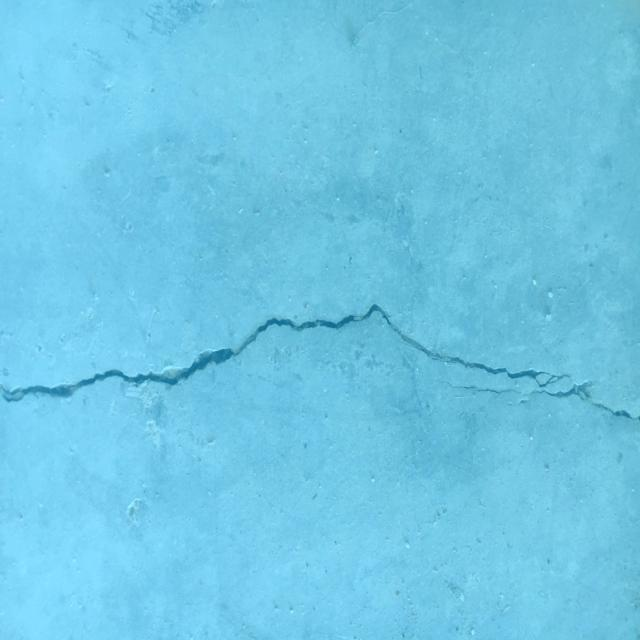crack: (0, 303, 640, 422)
